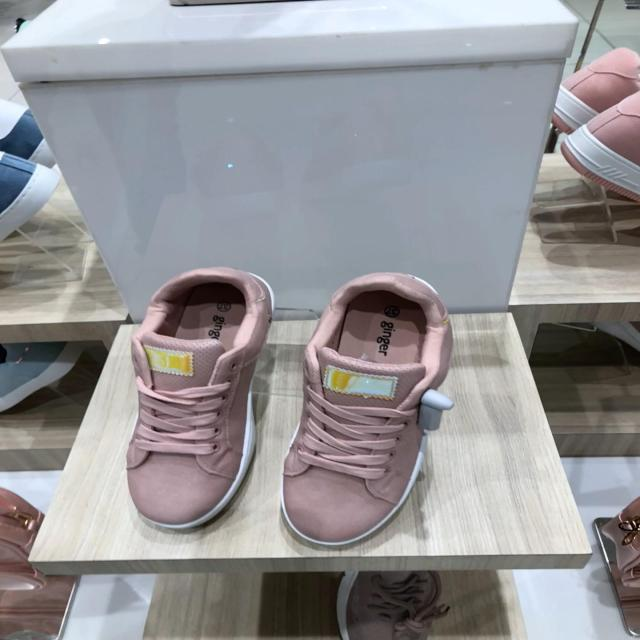shoe: (281, 273, 454, 550), (127, 268, 275, 532)
